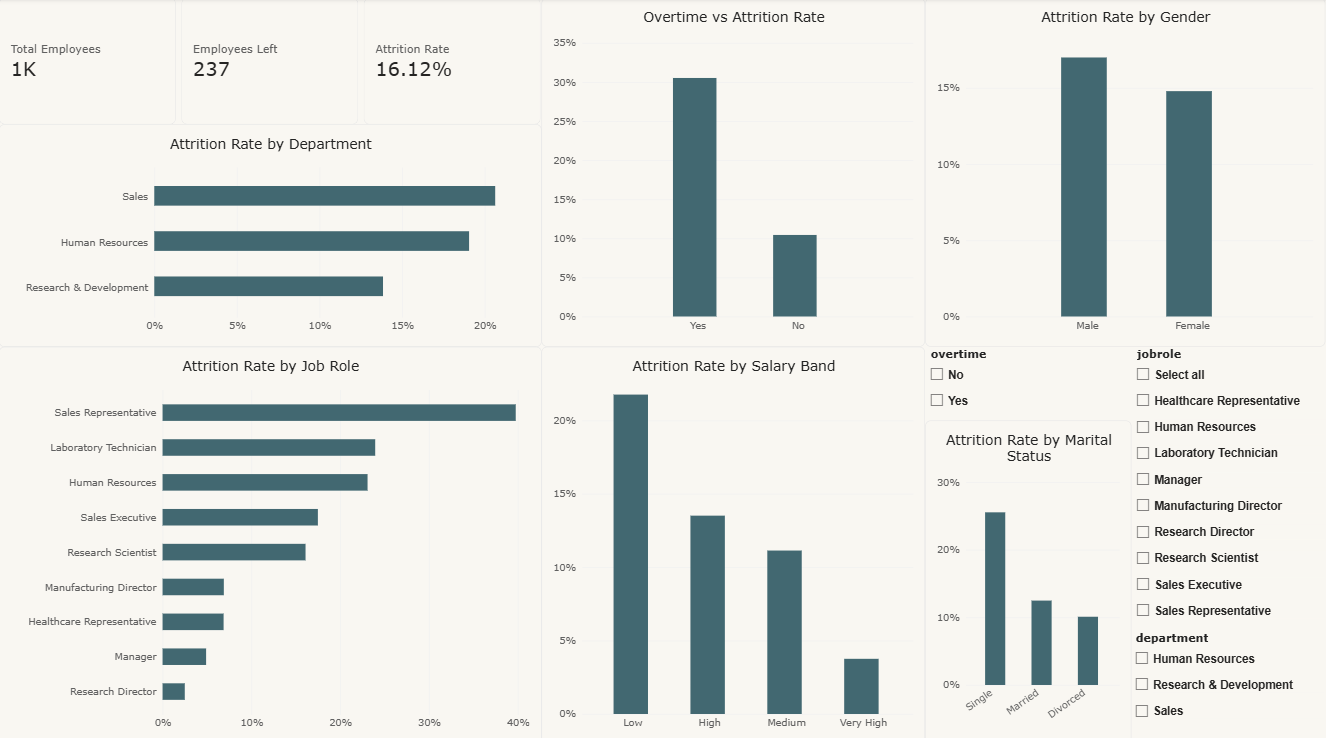

This screenshot's page, from the dashboard's own definition file:
{"tool":"powerbi","page":{"name":"Attrition Analysis","canvas":[1920,1080],"ordinal":1},"visuals":[{"type":"cardVisual","fields":{"Data":["employees.Total Employees","employees.Employees Left","employees.Attrition Rate"]},"box":[0,0,785.1,183.4],"z":0},{"type":"clusteredBarChart","title":"Attrition Rate by Department","fields":{"Category":["employees.department"],"Y":["employees.Attrition Rate"]},"box":[0,182.8,785.4,322.1],"z":1000},{"type":"clusteredBarChart","title":"Attrition Rate by Job Role","fields":{"Category":["employees.jobrole"],"Y":["employees.Attrition Rate"]},"box":[0,504.9,785.4,575.5],"z":2000},{"type":"clusteredColumnChart","title":"Attrition Rate by Salary Band","fields":{"Category":["employees.Salary Band"],"Y":["employees.Attrition Rate"]},"box":[785.4,504.9,555.6,575.5],"z":3000},{"type":"clusteredColumnChart","title":"Overtime vs Attrition Rate","fields":{"Y":["employees.Attrition Rate"],"Category":["employees.overtime"]},"box":[785.4,0,555.6,504.9],"z":4000},{"type":"clusteredColumnChart","title":"Attrition Rate by Marital Status","fields":{"Y":["employees.Attrition Rate"],"Category":["employees.maritalstatus"]},"box":[1341,611.7,298.6,468.7],"z":5000},{"type":"clusteredColumnChart","title":"Attrition Rate by Gender","fields":{"Y":["employees.Attrition Rate"],"Category":["employees.gender"]},"box":[1341,0,579.1,504.9],"z":6000},{"type":"slicer","fields":{"Values":["employees.department"]},"box":[1637.7,915.7,280.5,164.7],"z":7000},{"type":"slicer","fields":{"Values":["employees.overtime"]},"box":[1341,504.9,280.5,106.8],"z":8000},{"type":"slicer","fields":{"Values":["employees.jobrole"]},"box":[1639.6,504.9,280.5,410.8],"z":9000}]}

Visuals, with their boxes in screenshot pixels (x1, y1, x2, y2), scaled from the page's 1920x1080 canvas onto the 1326x738 screenshot:
cardVisual - employees.Total Employees x employees.Employees Left: (0, 0, 542, 125)
"Attrition Rate by Department" clusteredBarChart: (0, 125, 542, 345)
"Attrition Rate by Job Role" clusteredBarChart: (0, 345, 542, 737)
"Attrition Rate by Salary Band" clusteredColumnChart: (542, 345, 926, 737)
"Overtime vs Attrition Rate" clusteredColumnChart: (542, 0, 926, 345)
"Attrition Rate by Marital Status" clusteredColumnChart: (926, 418, 1132, 737)
"Attrition Rate by Gender" clusteredColumnChart: (926, 0, 1325, 345)
slicer - employees.department: (1131, 626, 1325, 737)
slicer - employees.overtime: (926, 345, 1120, 418)
slicer - employees.jobrole: (1132, 345, 1325, 626)
